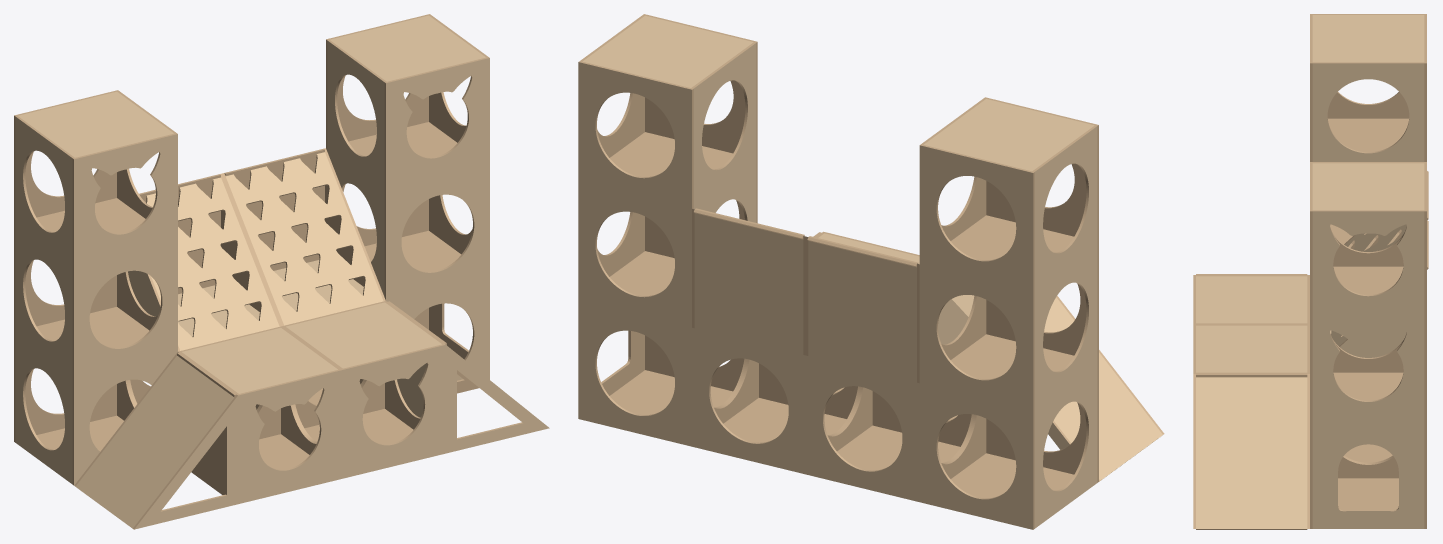
3 views of the same model, side by side, from view 1: azimuth 30°, elevation 25°; view 2: azimuth 150°, elevation 25°; view 3: azimuth 270°, elevation 25° (orthographic). The views are drawn at different scales.
Visible parts, largest first — view 1: sau_phai_t2_meo, sau_trai_t2_meo, nem_trai, truoc_meo_2, doc_tam_giac_2, truoc_meo_1, sau_trai_t1, doc_tam_giac_1, sau_phai_t1, sau_trai_t0, nem_phai, sau_phai_t0_vom (+2 smaller); view 2: sau_phai_t2_meo, sau_trai_t2_meo, sau_trai_t1, sau_trai_t0, doc_tam_giac_1, sau_phai_t1, doc_tam_giac_2, sau_phai_t0_vom, sau_giua2_t0, sau_giua1_t0, nem_trai, truoc_meo_2; view 3: nem_phai, sau_phai_t2_meo, sau_trai_t2_meo, sau_phai_t0_vom, sau_phai_t1, truoc_meo_1, truoc_meo_2, doc_tam_giac_2, doc_tam_giac_1, sau_giua2_t0.
Boxes of the visible parts, bbox=[...] form: sau_phai_t2_meo: bbox=[326, 14, 489, 191]; sau_trai_t2_meo: bbox=[14, 90, 177, 267]; nem_trai: bbox=[74, 352, 237, 529]; truoc_meo_2: bbox=[282, 301, 445, 478]; doc_tam_giac_2: bbox=[222, 148, 385, 325]; truoc_meo_1: bbox=[178, 326, 341, 504]; sau_trai_t1: bbox=[14, 224, 177, 376]; doc_tam_giac_1: bbox=[128, 173, 281, 351]; sau_phai_t1: bbox=[326, 148, 489, 300]; sau_trai_t0: bbox=[14, 333, 177, 485]; nem_phai: bbox=[387, 301, 549, 453]; sau_phai_t0_vom: bbox=[386, 275, 489, 380]; sau_phai_t2_meo: bbox=[578, 14, 757, 208]; sau_trai_t2_meo: bbox=[919, 97, 1098, 291]; sau_trai_t1: bbox=[919, 244, 1098, 410]; sau_trai_t0: bbox=[919, 363, 1098, 529]; doc_tam_giac_1: bbox=[806, 236, 968, 383]; sau_phai_t1: bbox=[578, 161, 757, 327]; doc_tam_giac_2: bbox=[692, 208, 805, 355]; sau_phai_t0_vom: bbox=[578, 300, 746, 446]; sau_giua2_t0: bbox=[692, 328, 860, 474]; sau_giua1_t0: bbox=[806, 355, 974, 501]; nem_trai: bbox=[1044, 295, 1164, 481]; truoc_meo_2: bbox=[816, 231, 919, 394]; nem_phai: bbox=[1193, 374, 1309, 529]; sau_phai_t2_meo: bbox=[1310, 162, 1426, 317]; sau_trai_t2_meo: bbox=[1310, 14, 1426, 161]; sau_phai_t0_vom: bbox=[1310, 423, 1426, 528]; sau_phai_t1: bbox=[1310, 317, 1426, 423]; truoc_meo_1: bbox=[1193, 275, 1309, 324]; truoc_meo_2: bbox=[1193, 324, 1309, 373]; doc_tam_giac_2: bbox=[1331, 220, 1428, 357]; doc_tam_giac_1: bbox=[1344, 171, 1428, 251]; sau_giua2_t0: bbox=[1330, 330, 1392, 463].
Bounding box in the file's own units: 1.08 × 0.8142 × 0.5442.
